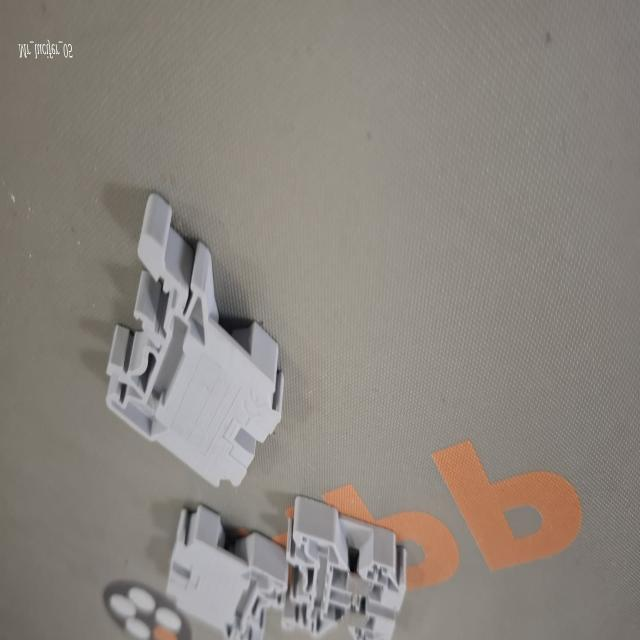Inverted: (90, 188, 304, 511)
Pass: (278, 487, 442, 640)
